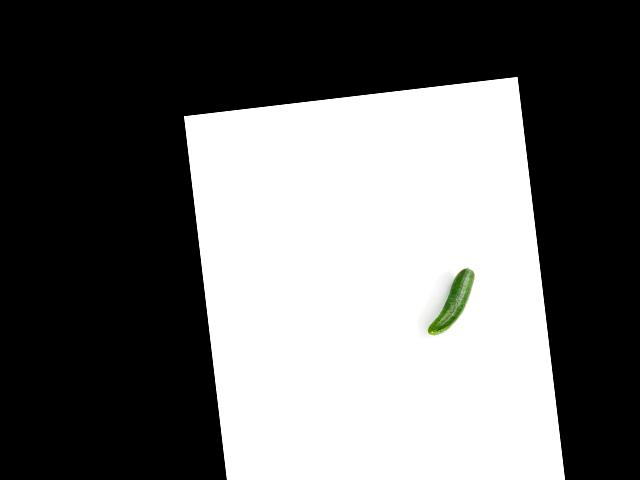cucumber: (420, 267, 480, 335)
